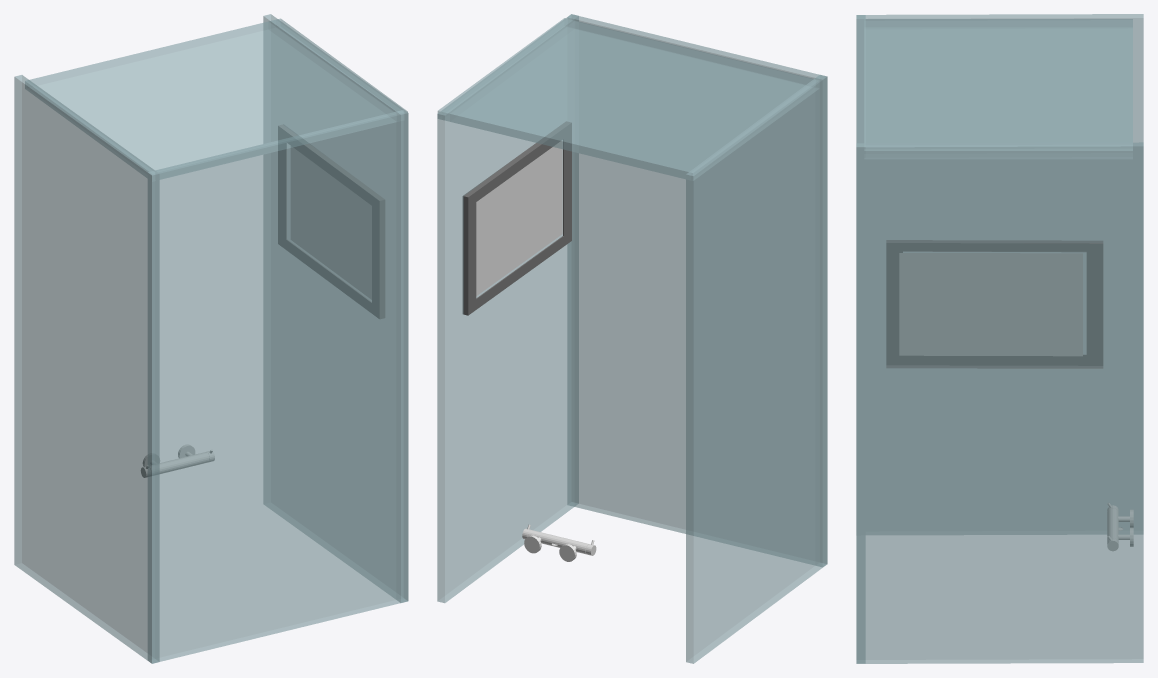
File: shower.glb
3 views of the same model, side by side, from view 1: azimuth 30°, elevation 25°; view 2: azimuth 150°, elevation 25°; view 3: azimuth 270°, elevation 25° (orthographic). The views are drawn at different scales.
Visible parts, largest first — view 1: Box164.002, Box165.002, Box166.002, Box167.002, Object249.002, Object248.002, Object245.002; view 2: Box164.002, Box165.002, Box166.002, Box167.002, Object249.002, Object248.002, Object245.002; view 3: Box166.002, Box165.002, Box167.002, Object249.002, Object248.002, Box164.002, Object245.002.
Part boxes in pixels (x1,y1,x2,y2): Box164.002: (148, 110, 407, 663); Box165.002: (14, 75, 159, 663); Box166.002: (263, 14, 408, 602); Box167.002: (25, 18, 407, 181); Object249.002: (291, 147, 371, 299); Object248.002: (278, 124, 384, 318); Object245.002: (141, 444, 214, 477); Box164.002: (567, 14, 826, 566); Box165.002: (686, 75, 827, 663); Box166.002: (437, 14, 578, 602); Box167.002: (437, 18, 819, 180); Object249.002: (476, 140, 562, 295); Object248.002: (462, 121, 571, 315); Object245.002: (522, 524, 596, 561); Box166.002: (856, 142, 1143, 663); Box165.002: (856, 14, 1143, 534); Box167.002: (864, 19, 1132, 159); Object249.002: (899, 253, 1082, 355); Object248.002: (886, 240, 1103, 368); Box164.002: (856, 15, 865, 663); Object245.002: (1107, 503, 1133, 550).
Bounding box in the file's own units: 1.68 × 3 × 1.51.
